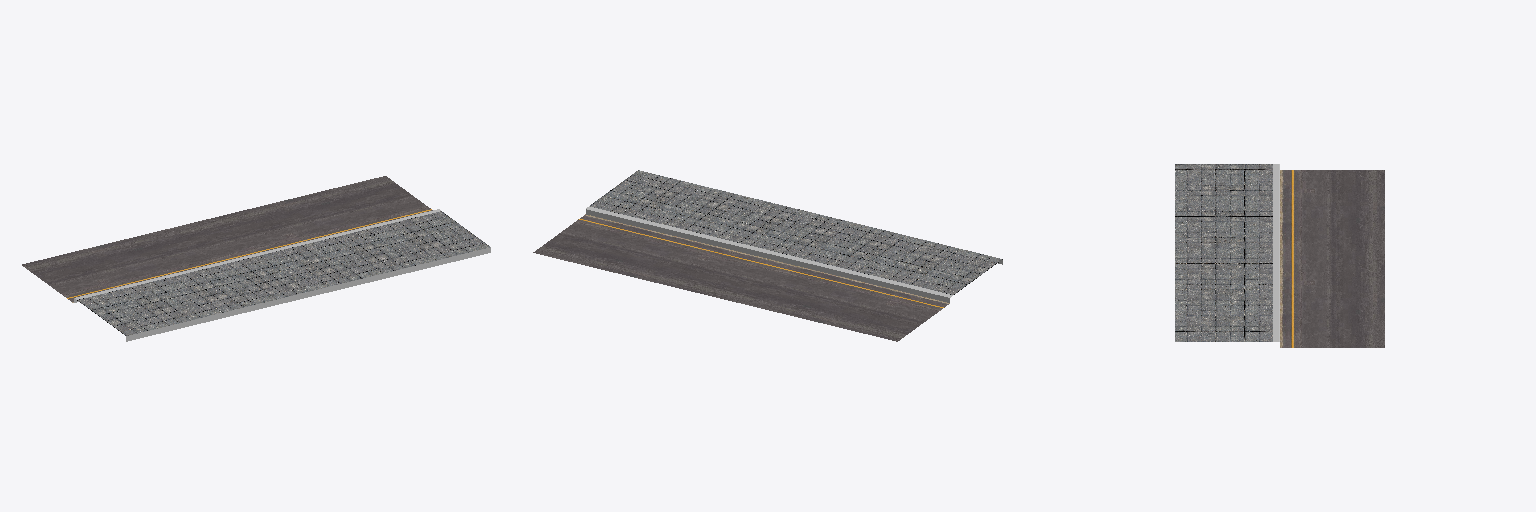
The picture shows the model from 3 angles: view 1: azimuth 30°, elevation 25°; view 2: azimuth 150°, elevation 25°; view 3: azimuth 270°, elevation 25°; orthographic projection.
Parts seen in each view (by area): view 1: Plane.018_Plane.020; view 2: Plane.018_Plane.020; view 3: Plane.018_Plane.020.
Boxes of the visible parts, <box> form: Plane.018_Plane.020: <box>22,176,490,341</box>; Plane.018_Plane.020: <box>533,170,1002,341</box>; Plane.018_Plane.020: <box>1175,164,1384,347</box>.
Size of the model in its own units: 24 by 0.3524 by 12.
Materials: 5 (2 with a texture image).